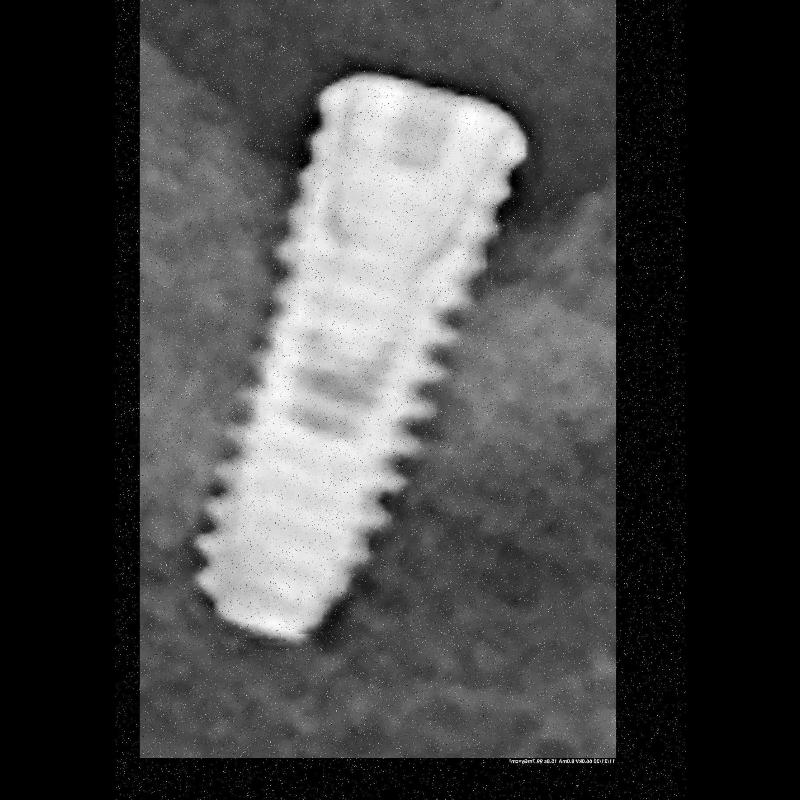osstem: (191, 72, 542, 636)
